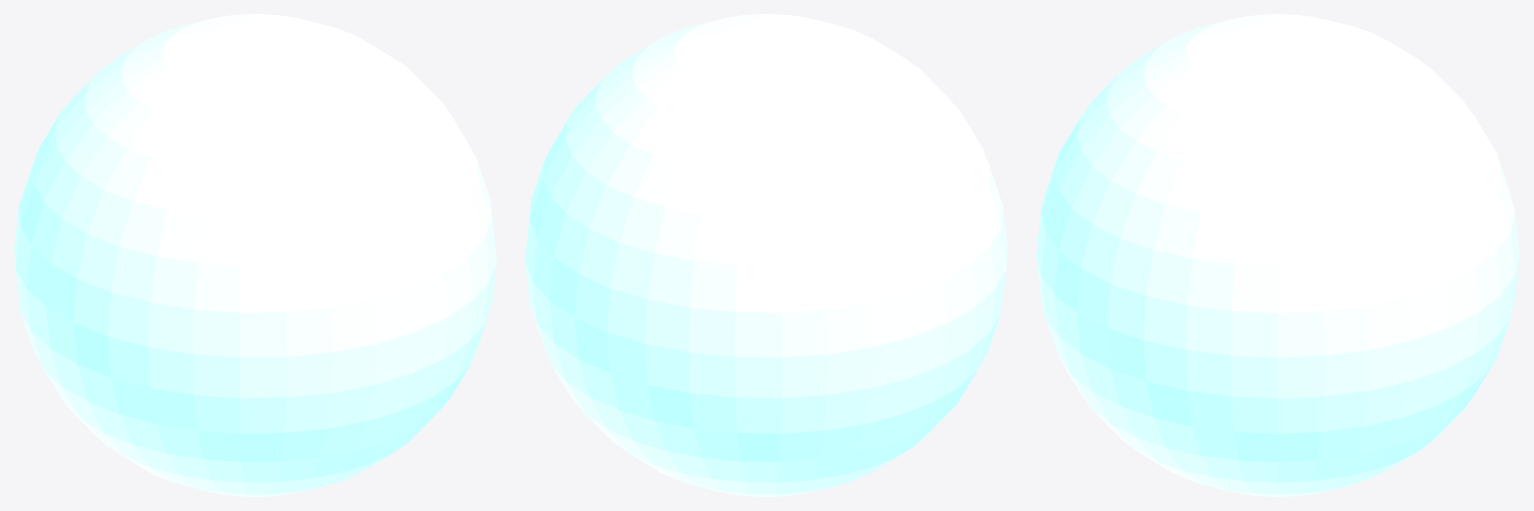
File: hero_shield_generator.glb
The picture shows the model from 3 angles, left to right: view 1: azimuth 30°, elevation 25°; view 2: azimuth 150°, elevation 25°; view 3: azimuth 270°, elevation 25°; orthographic projection.
Visible parts, largest first — view 1: Sphere.001; view 2: Sphere.001; view 3: Sphere.001.
Boxes of the visible parts, x1,y1,x2,y2 form: Sphere.001: (14, 14, 496, 496); Sphere.001: (525, 14, 1007, 496); Sphere.001: (1036, 14, 1519, 496).
Size of the model in its own units: 8 by 8 by 8.
